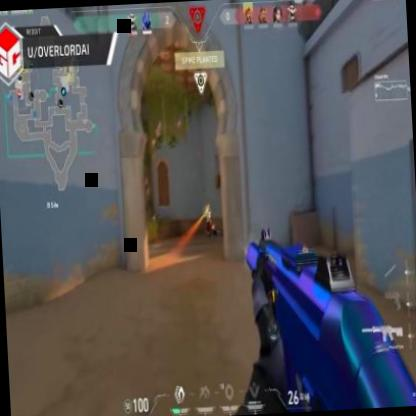enemy: (202, 202, 212, 234)
enemy_head: (204, 204, 210, 211)
